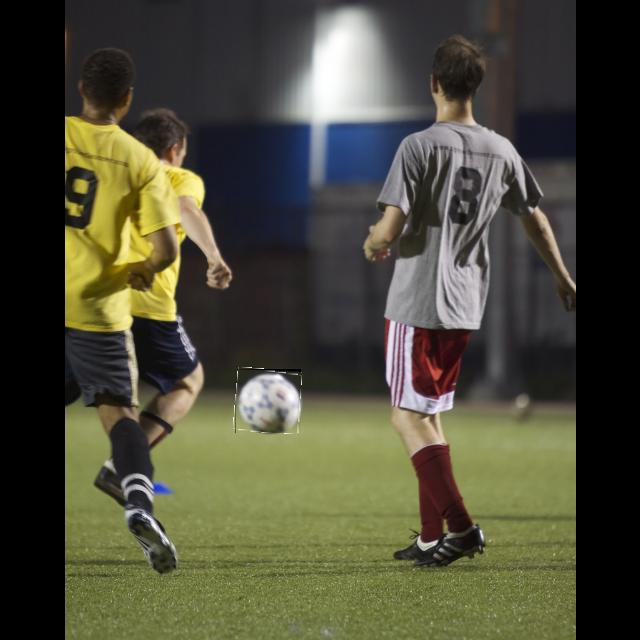Football: (235, 369, 301, 433)
